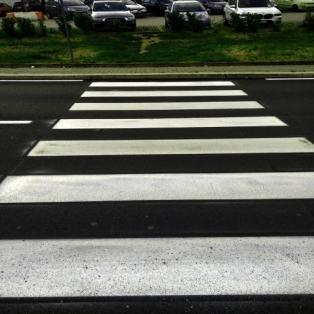Paso de Cebra: (0, 164, 314, 308), (45, 98, 294, 133)
